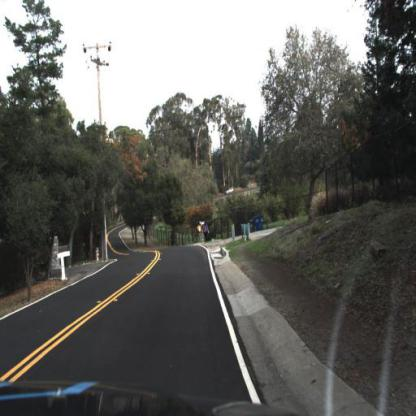pedestrian: (203, 218, 213, 247), (195, 221, 203, 248), (203, 220, 212, 243), (196, 218, 203, 245)
